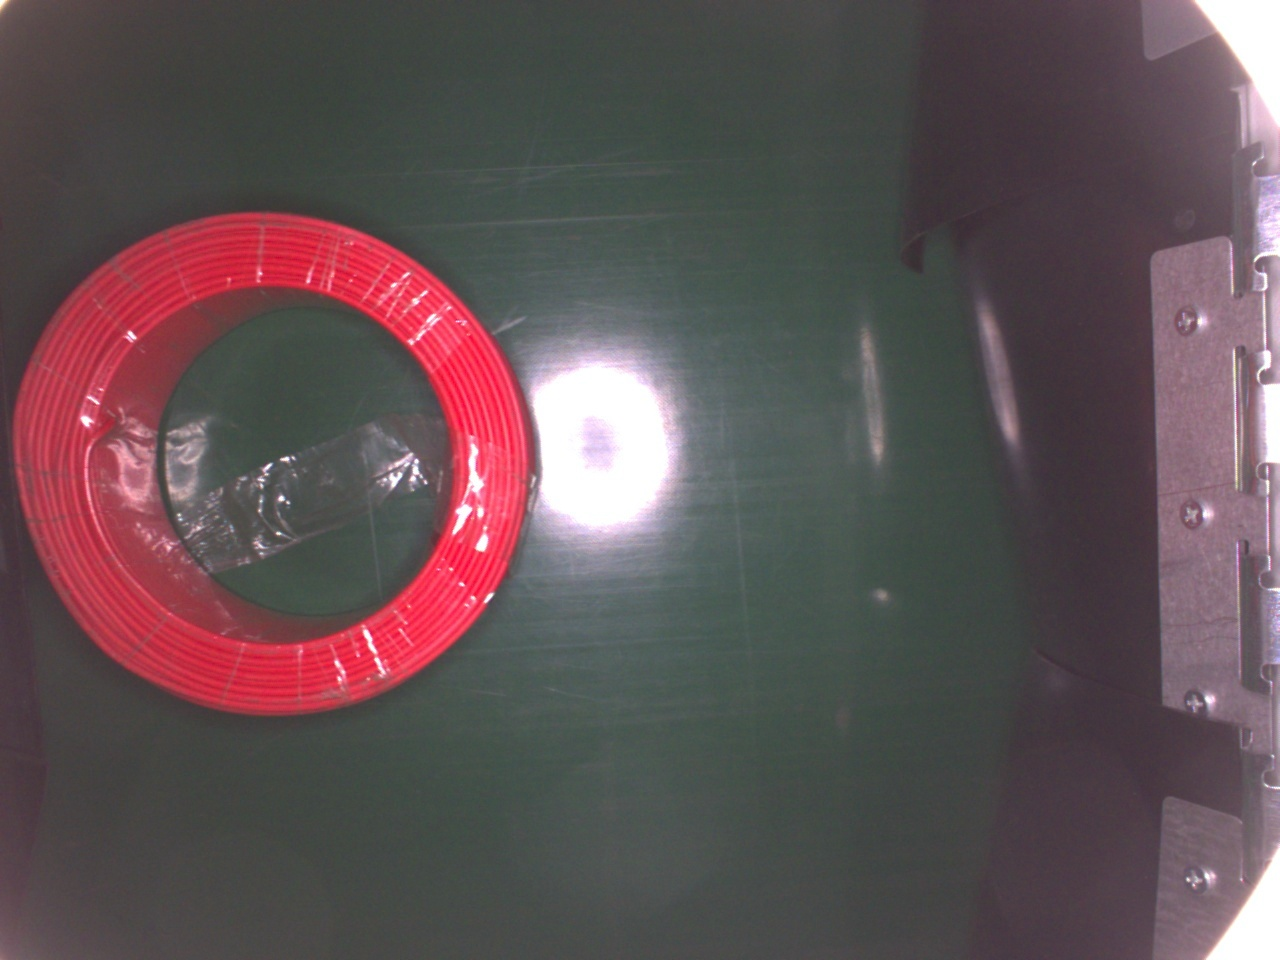red: (11, 213, 547, 711)
